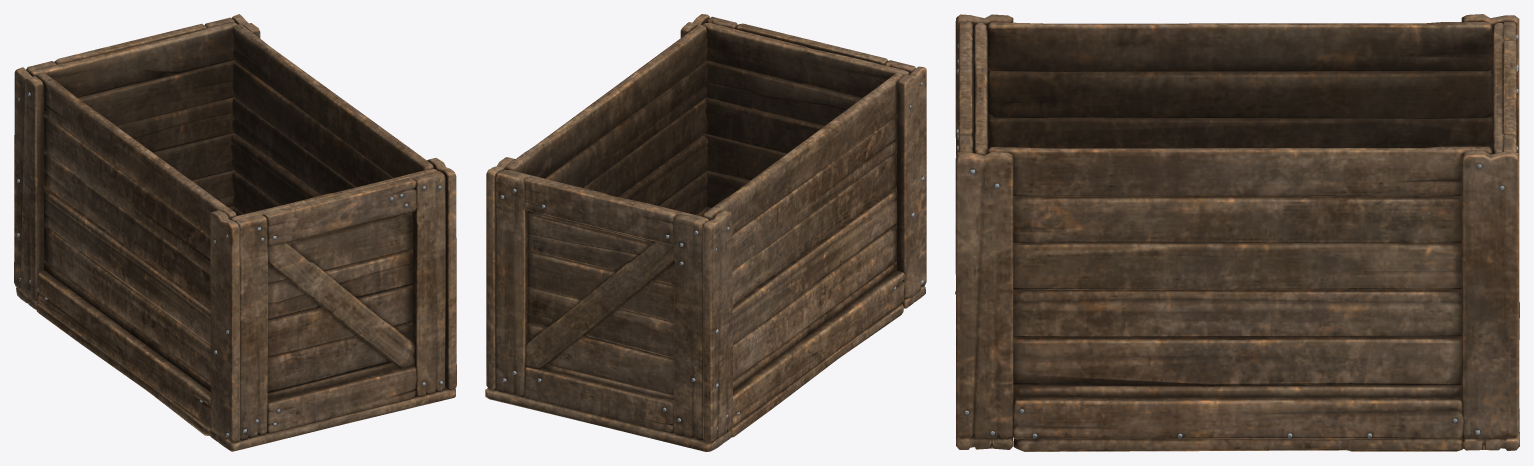
The model's file is SM_Boxes_01.fbx.
3 renders of one model, left to right at view 1: azimuth 30°, elevation 25°; view 2: azimuth 150°, elevation 25°; view 3: azimuth 270°, elevation 25°, orthographic. The views are drawn at different scales.
Visible parts, largest first — view 1: SM_Boxes_01_LOD0; view 2: SM_Boxes_01_LOD0; view 3: SM_Boxes_01_LOD0.
Part boxes in pixels (x1,y1,x2,y2): SM_Boxes_01_LOD0: (14,14,456,451); SM_Boxes_01_LOD0: (485,14,926,451); SM_Boxes_01_LOD0: (955,14,1519,451).
Size of the model in its own units: 81.54 by 134 by 77.83.
